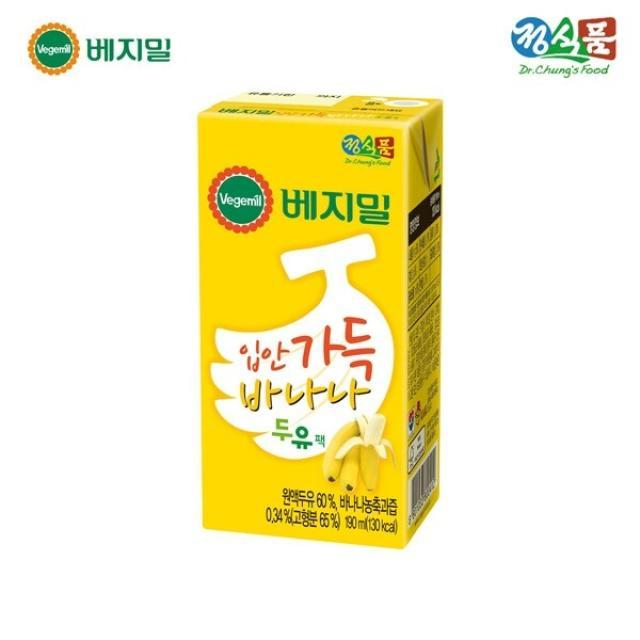Tetra: (186, 82, 460, 558)
